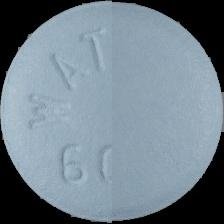60429-279: (0, 0, 224, 224)
